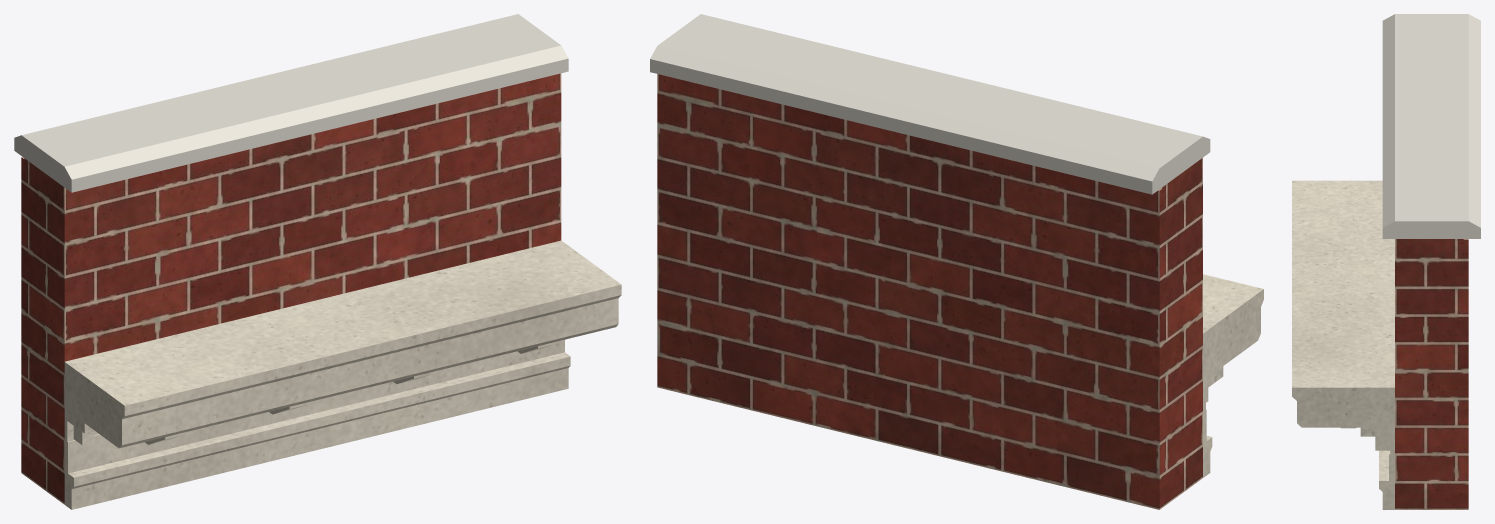
Rendered from parapet.glb.
The picture shows the model from 3 angles, left to right: view 1: azimuth 30°, elevation 25°; view 2: azimuth 150°, elevation 25°; view 3: azimuth 270°, elevation 25°; orthographic projection. The views are drawn at different scales.
Visible parts, largest first — view 1: parapet_brick, parapet_trim, parapet_coping; view 2: parapet_brick, parapet_coping, parapet_trim; view 3: parapet_trim, parapet_coping, parapet_brick.
Part boxes in pixels (<box>): parapet_brick: <box>21,73,561,504</box>; parapet_trim: <box>64,240,621,509</box>; parapet_coping: <box>14,14,568,192</box>; parapet_brick: <box>657,74,1202,509</box>; parapet_coping: <box>650,14,1210,194</box>; parapet_trim: <box>1203,274,1263,477</box>; parapet_trim: <box>1292,180,1394,509</box>; parapet_coping: <box>1382,14,1480,238</box>; parapet_brick: <box>1395,239,1468,509</box>.
Size of the model in its own units: 2 by 1.3 by 0.77.
Materials: 3 (2 with a texture image).
